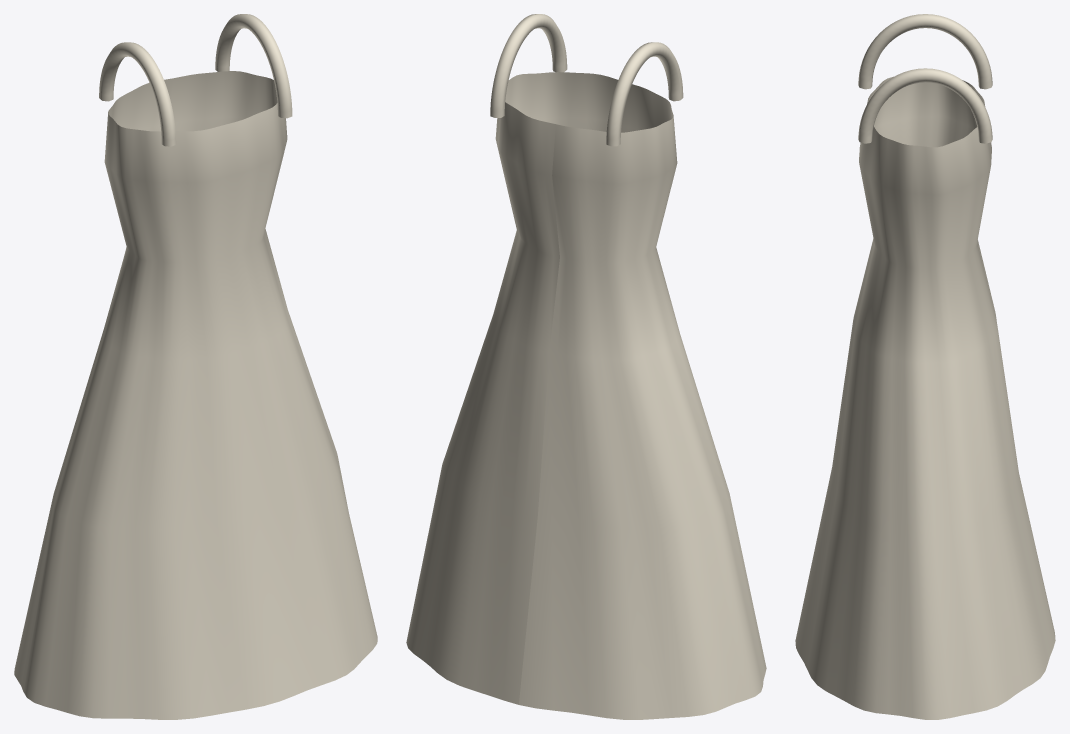
File: robe-lumiere-femme.glb
3 views of the same model, side by side, from view 1: azimuth 30°, elevation 25°; view 2: azimuth 150°, elevation 25°; view 3: azimuth 270°, elevation 25° (orthographic). The views are drawn at different scales.
Parts seen in each view (by area): view 1: edit-16; view 2: edit-16; view 3: edit-16.
Part boxes in pixels (x1=…): edit-16: x1=14, y1=14, x2=377, y2=719; edit-16: x1=406, y1=14, x2=766, y2=719; edit-16: x1=795, y1=14, x2=1055, y2=719.
Size of the model in its own units: 0.7277 by 1.29 by 0.5053.
